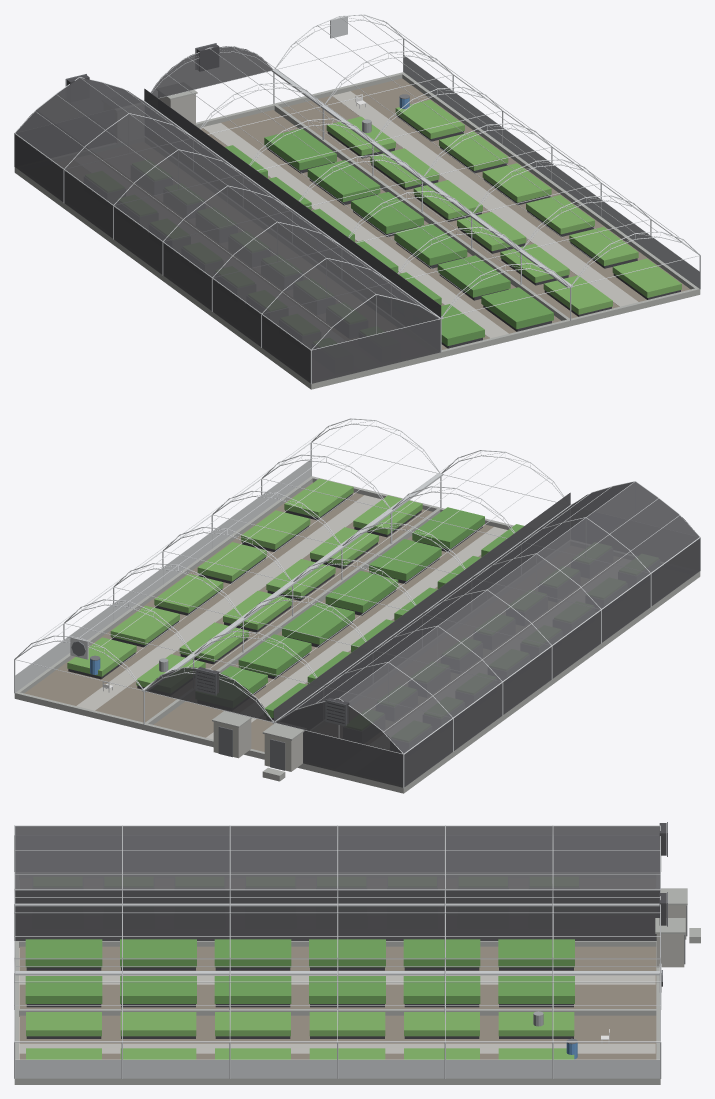
Rendered from plot18_greenhouse_complex.glb.
The picture shows the model from 3 angles, top to bottom: view 1: azimuth 30°, elevation 25°; view 2: azimuth 150°, elevation 25°; view 3: azimuth 270°, elevation 25°; orthographic projection. The views are drawn at different scales.
Parts seen in each view (by area): view 1: GH_Batch_GH_BlackShadeCloth, GH_Batch_GH_GalvSteel, GH_Batch_GH_CoffeeFoliage, GH_Batch_GH_CitrusFoliage, GH_Batch_GH_SoilFloor, GH_Batch_GH_ConcretePlinth, GH_Batch_GH_GravelPath, GH_Batch_GH_PolybagContainer, GH_Batch_GH_BlackLouverUnit, GH_Batch_GH_VestibuleStucco; view 2: GH_Batch_GH_BlackShadeCloth, GH_Batch_GH_GalvSteel, GH_Batch_GH_CoffeeFoliage, GH_Batch_GH_SoilFloor, GH_Batch_GH_CitrusFoliage, GH_Batch_GH_ConcretePlinth, GH_Batch_GH_GravelPath, GH_Batch_GH_PolybagContainer, GH_Batch_GH_DarkMetalFrame, GH_Batch_GH_VestibuleStucco, GH_Batch_GH_BlackLouverUnit; view 3: GH_Batch_GH_BlackShadeCloth, GH_Batch_GH_GalvSteel, GH_Batch_GH_CitrusFoliage, GH_Batch_GH_SoilFloor, GH_Batch_GH_CoffeeFoliage, GH_Batch_GH_ConcretePlinth, GH_Batch_GH_GravelPath, GH_Batch_GH_PolybagContainer, GH_Batch_GH_VestibuleStucco, GH_Batch_GH_BlackLouverUnit.
Part boxes in pixels (left/top/right/bottom): GH_Batch_GH_BlackShadeCloth: left=15, top=46, right=441, bottom=383; GH_Batch_GH_GalvSteel: left=14, top=14, right=700, bottom=384; GH_Batch_GH_CoffeeFoliage: left=326, top=99, right=681, bottom=314; GH_Batch_GH_CitrusFoliage: left=225, top=128, right=553, bottom=346; GH_Batch_GH_SoilFloor: left=199, top=78, right=690, bottom=349; GH_Batch_GH_ConcretePlinth: left=14, top=72, right=700, bottom=389; GH_Batch_GH_GravelPath: left=203, top=91, right=638, bottom=338; GH_Batch_GH_PolybagContainer: left=266, top=115, right=680, bottom=348; GH_Batch_GH_BlackLouverUnit: left=67, top=44, right=219, bottom=85; GH_Batch_GH_VestibuleStucco: left=158, top=94, right=195, bottom=124; GH_Batch_GH_BlackShadeCloth: left=146, top=482, right=699, bottom=787; GH_Batch_GH_GalvSteel: left=14, top=418, right=700, bottom=788; GH_Batch_GH_CoffeeFoliage: left=67, top=478, right=422, bottom=687; GH_Batch_GH_SoilFloor: left=24, top=482, right=493, bottom=751; GH_Batch_GH_CitrusFoliage: left=220, top=507, right=523, bottom=717; GH_Batch_GH_ConcretePlinth: left=14, top=476, right=700, bottom=793; GH_Batch_GH_GravelPath: left=76, top=495, right=507, bottom=739; GH_Batch_GH_PolybagContainer: left=68, top=493, right=482, bottom=719; GH_Batch_GH_DarkMetalFrame: left=71, top=641, right=346, bottom=770; GH_Batch_GH_VestibuleStucco: left=213, top=719, right=302, bottom=771; GH_Batch_GH_BlackLouverUnit: left=197, top=667, right=349, bottom=724; GH_Batch_GH_BlackShadeCloth: left=15, top=826, right=659, bottom=940; GH_Batch_GH_GalvSteel: left=14, top=825, right=661, bottom=1078; GH_Batch_GH_CitrusFoliage: left=25, top=939, right=574, bottom=1003; GH_Batch_GH_SoilFloor: left=19, top=946, right=656, bottom=1059; GH_Batch_GH_CoffeeFoliage: left=26, top=1012, right=574, bottom=1059; GH_Batch_GH_ConcretePlinth: left=14, top=888, right=700, bottom=1084; GH_Batch_GH_GravelPath: left=19, top=975, right=655, bottom=1053; GH_Batch_GH_PolybagContainer: left=26, top=967, right=573, bottom=1038; GH_Batch_GH_VestibuleStucco: left=656, top=905, right=686, bottom=967; GH_Batch_GH_BlackLouverUnit: left=659, top=823, right=666, bottom=925.
Size of the model in its own units: 24.93 by 4.88 by 34.89.
